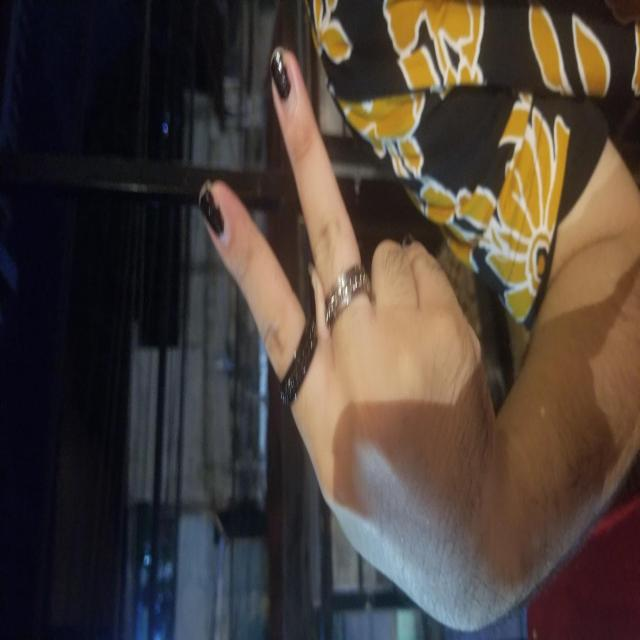K: (4, 199, 591, 494)
